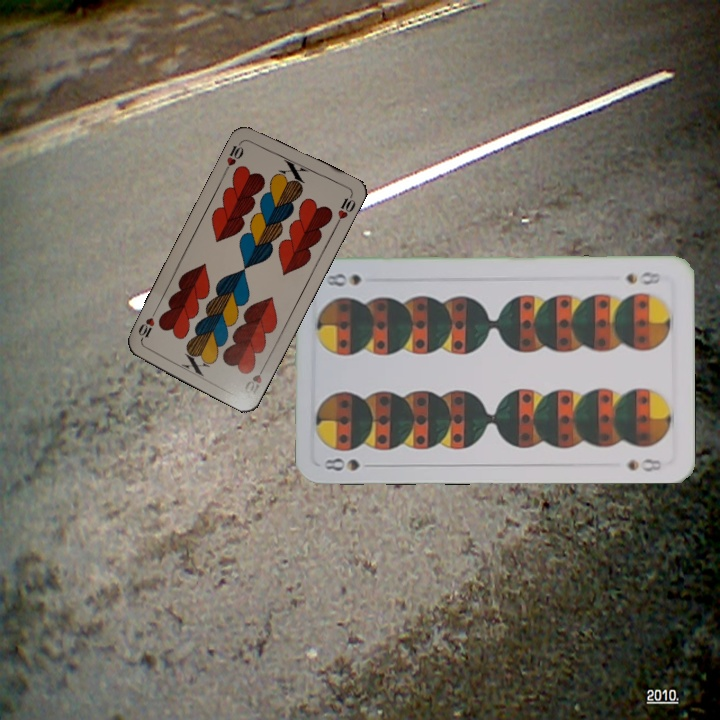H10: (240, 360, 268, 400), (221, 136, 246, 174)
S8: (321, 454, 379, 474), (621, 268, 663, 288)
